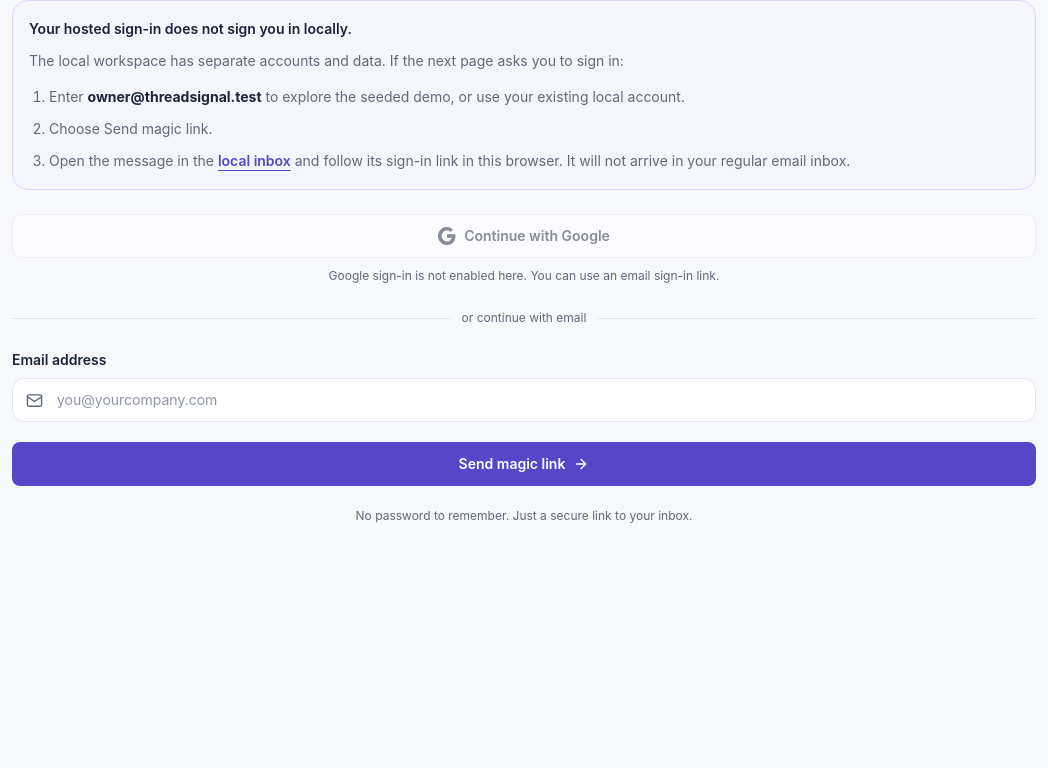
Phase 1 forms › shows inbox success and sends only the entered email
Type "reader@example.test" into the field labelled "Email address" at coordinates (524, 400), box [12, 378, 1036, 422]
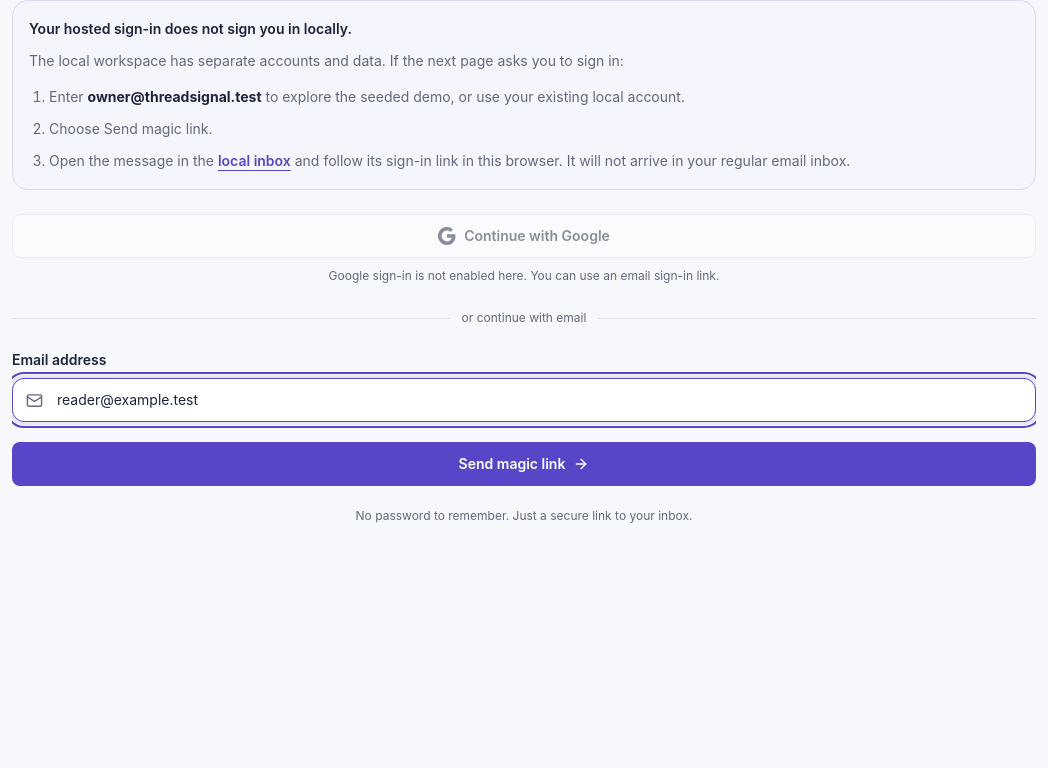
Click the button "Send magic link" at coordinates (524, 464), box [12, 442, 1036, 486]
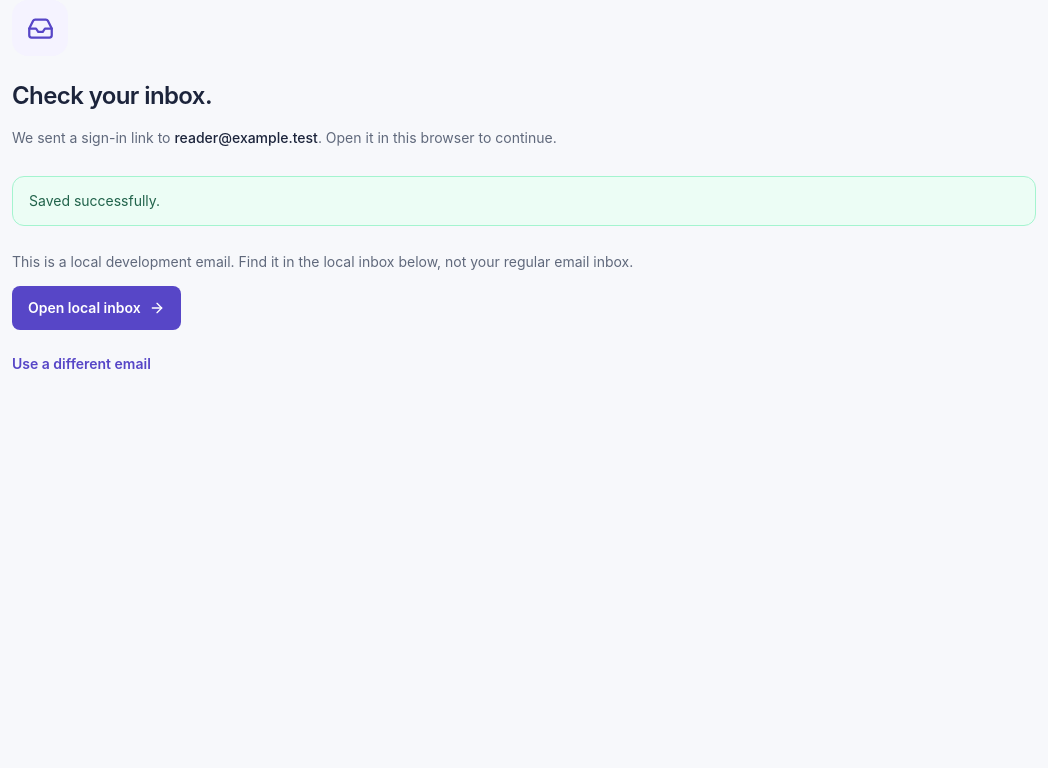
Expected: the heading "Check your inbox." is shown, [12, 81, 212, 110]
Expected: the text "reader@example.test" is shown, [174, 129, 318, 146]
